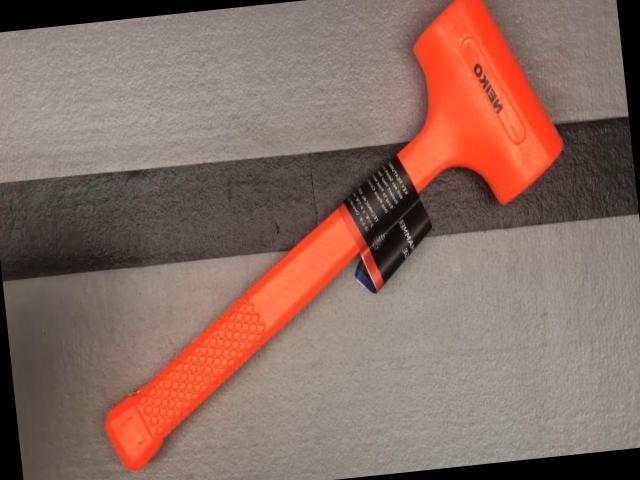hammer: (61, 0, 593, 475)
